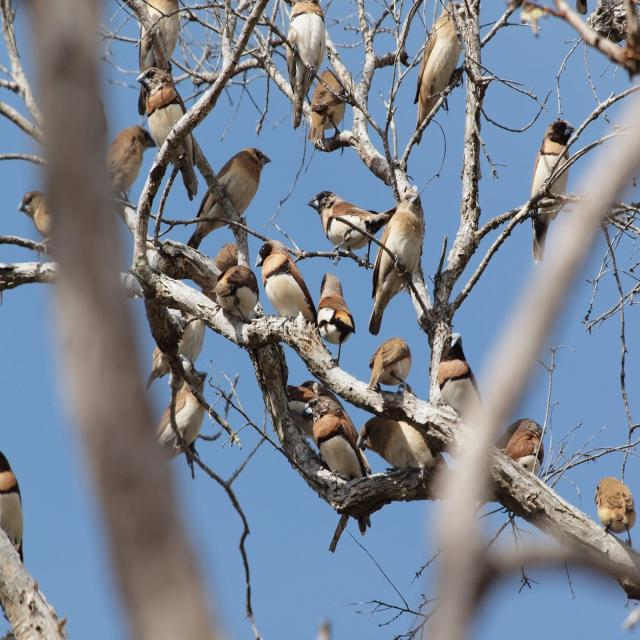bird: (278, 382, 369, 489), (133, 62, 200, 197), (192, 147, 272, 252), (286, 4, 339, 131), (523, 109, 570, 249), (417, 2, 463, 144), (258, 238, 324, 331), (306, 190, 388, 263), (143, 308, 208, 377), (210, 247, 258, 324), (593, 478, 638, 550), (434, 332, 474, 407), (315, 274, 357, 344), (110, 117, 152, 187), (364, 338, 414, 395), (13, 184, 47, 235)
